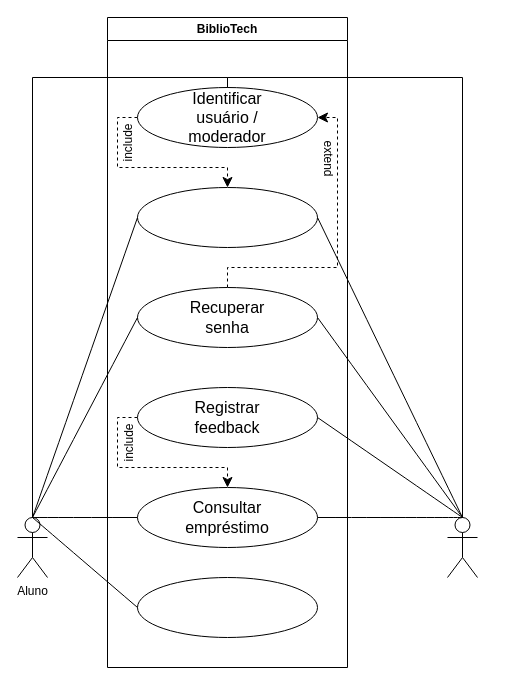
The diagram is 512 pixels wide and 685 high, and some of its shapes have lost their labels. The centre of each missing label's shape, as x and y in pixels:
"Bilbiotecário" belongs at point 462,547.
"Consultar feedback" belongs at point 227,607.
"Validar matrícula" belongs at point 227,217.
